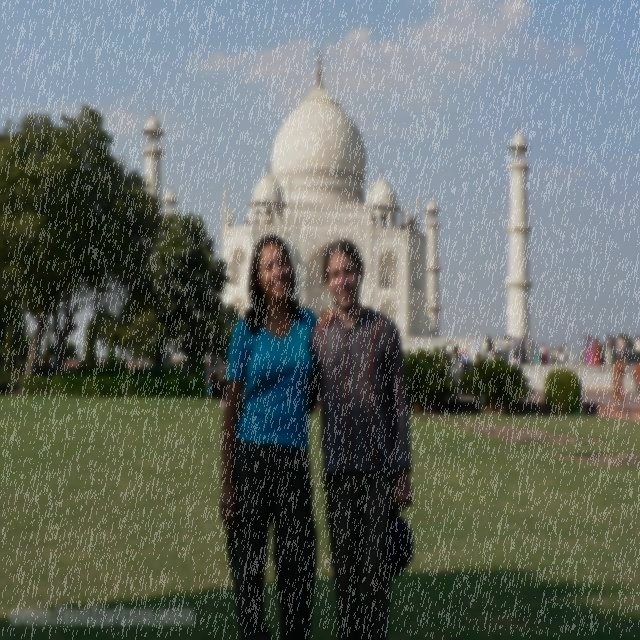pessoa: (212, 226, 340, 640), (309, 238, 417, 640), (447, 359, 462, 415), (214, 357, 230, 402), (612, 356, 626, 404), (450, 346, 460, 400), (204, 360, 216, 402), (483, 346, 503, 366), (630, 333, 640, 368), (604, 333, 614, 367), (519, 334, 529, 367), (630, 360, 640, 393), (592, 336, 602, 366), (501, 334, 510, 365), (460, 348, 471, 373), (618, 332, 626, 364), (444, 339, 454, 364), (587, 334, 594, 367), (472, 334, 480, 361), (626, 339, 634, 366), (510, 350, 520, 370), (532, 342, 540, 366), (538, 342, 546, 366), (616, 333, 624, 357), (130, 356, 146, 368), (550, 346, 560, 365), (472, 350, 483, 366), (556, 349, 566, 366), (566, 352, 574, 373), (592, 337, 598, 365), (583, 334, 588, 367), (485, 334, 494, 352), (162, 350, 170, 370), (567, 348, 575, 367), (612, 335, 617, 364), (40, 355, 51, 368), (481, 338, 489, 354), (493, 335, 501, 351), (562, 342, 568, 362), (76, 359, 86, 370), (98, 356, 109, 365), (508, 334, 514, 350), (512, 336, 520, 348), (516, 335, 522, 346), (544, 345, 548, 359), (558, 344, 564, 352), (502, 335, 506, 340), (506, 335, 509, 340)
